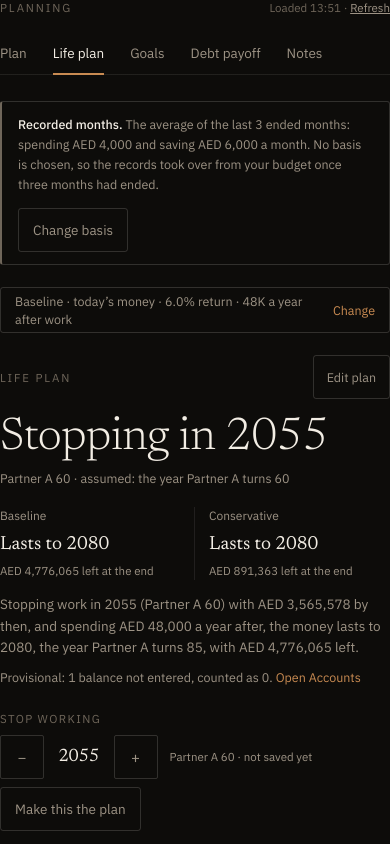
Test: Planning tabs and the assumptions bar › folds to a summary of what the plan is on, and opens the rest from it
Click the button with class "pl-assumptions-toggle": (195, 310) [15,288,375,332]
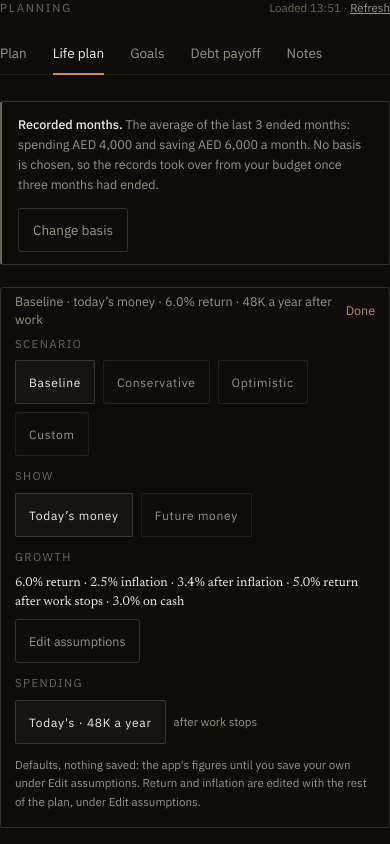
Now the text "Done" is shown, box [15,288,375,332]
